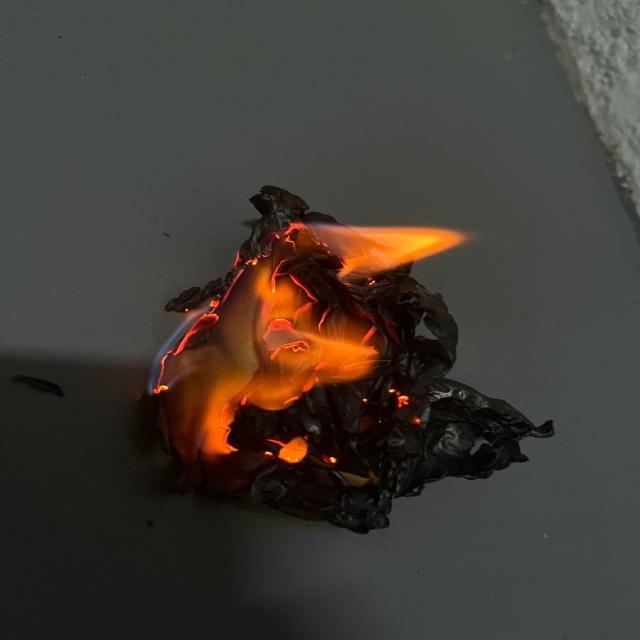fire: (145, 219, 469, 465), (261, 433, 311, 465)
